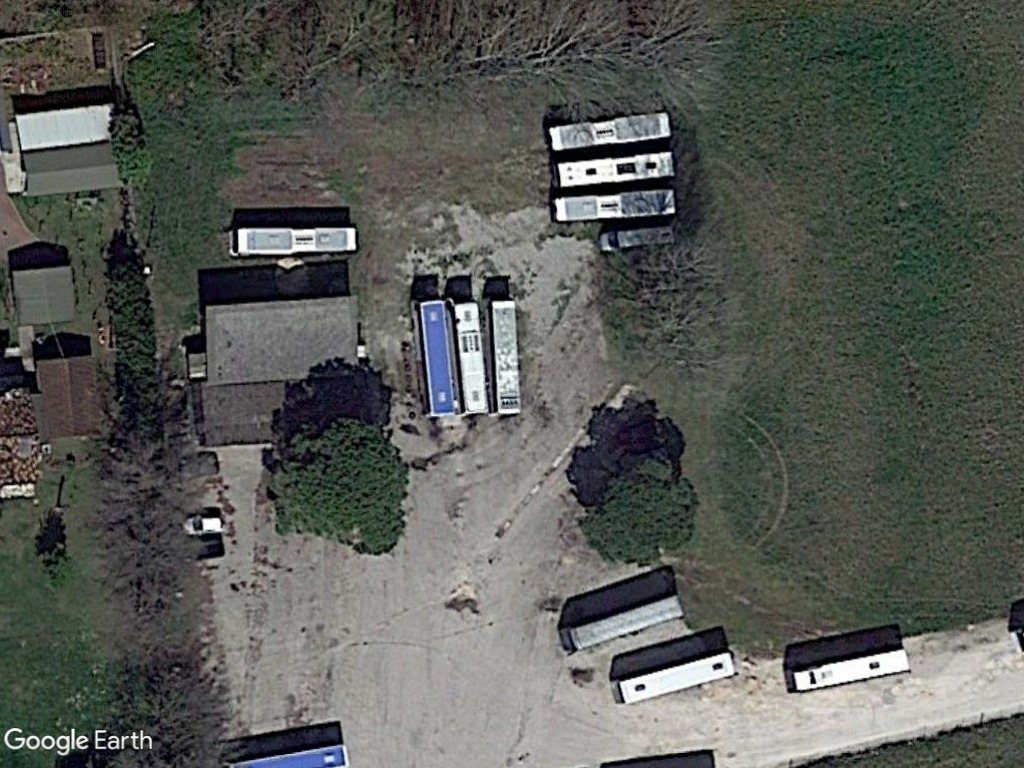bus: (605, 650, 747, 710), (555, 592, 688, 656), (782, 646, 916, 700), (410, 293, 463, 422), (541, 108, 676, 154), (448, 297, 495, 424), (547, 184, 683, 225), (546, 146, 680, 187), (485, 295, 527, 422), (223, 223, 363, 261)
car: (180, 512, 228, 541)
